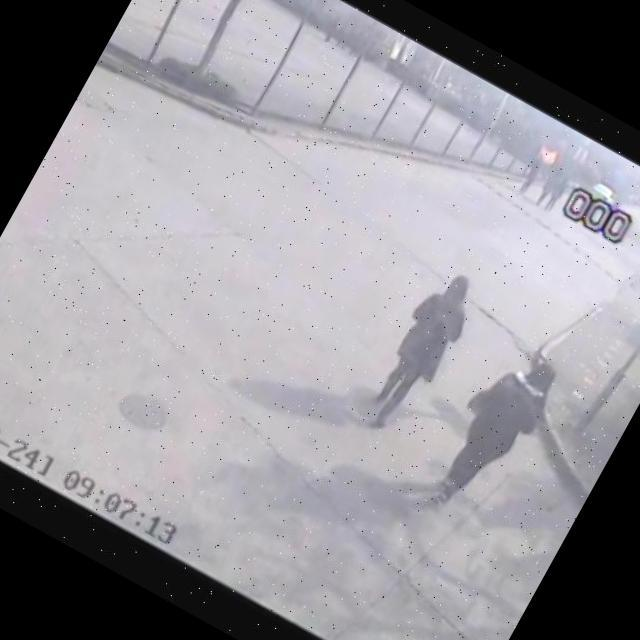person: (414, 333, 574, 534), (354, 260, 487, 446)
